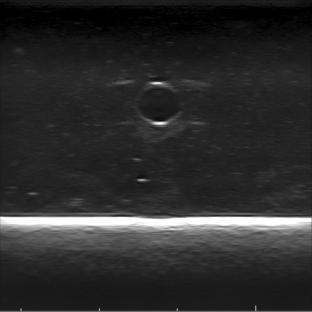vessel: (132, 80, 186, 128)
